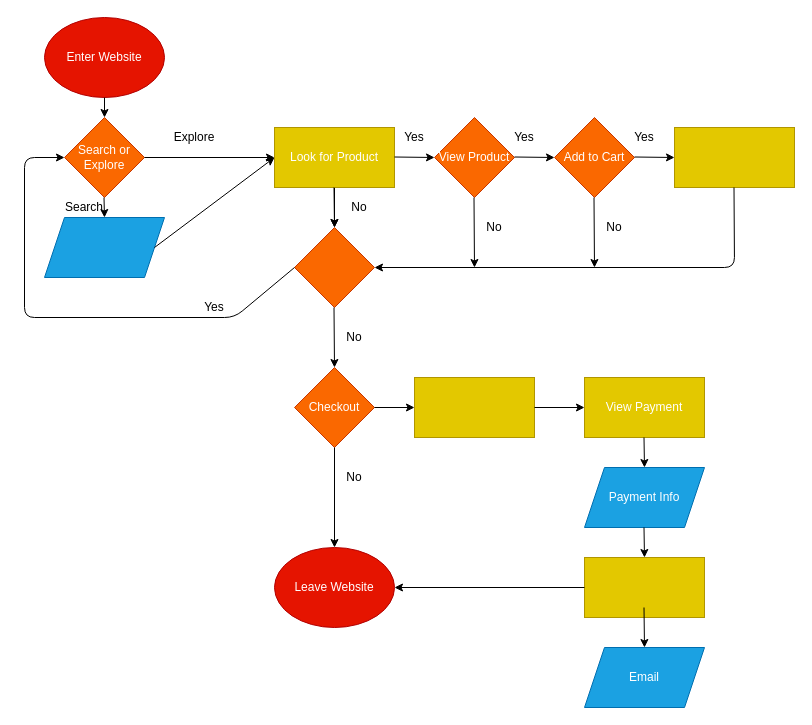
The diagram is 812 pixels wide and 725 high, and some of its shapes have lost their labels. Each missing label, with the centre of its shape:
Add to Cart Confirmation: [734,157]
Continue Shopping: [334,267]
Order Confirmation: [644,587]
Search Input: [104,247]
View Cart: [474,407]
